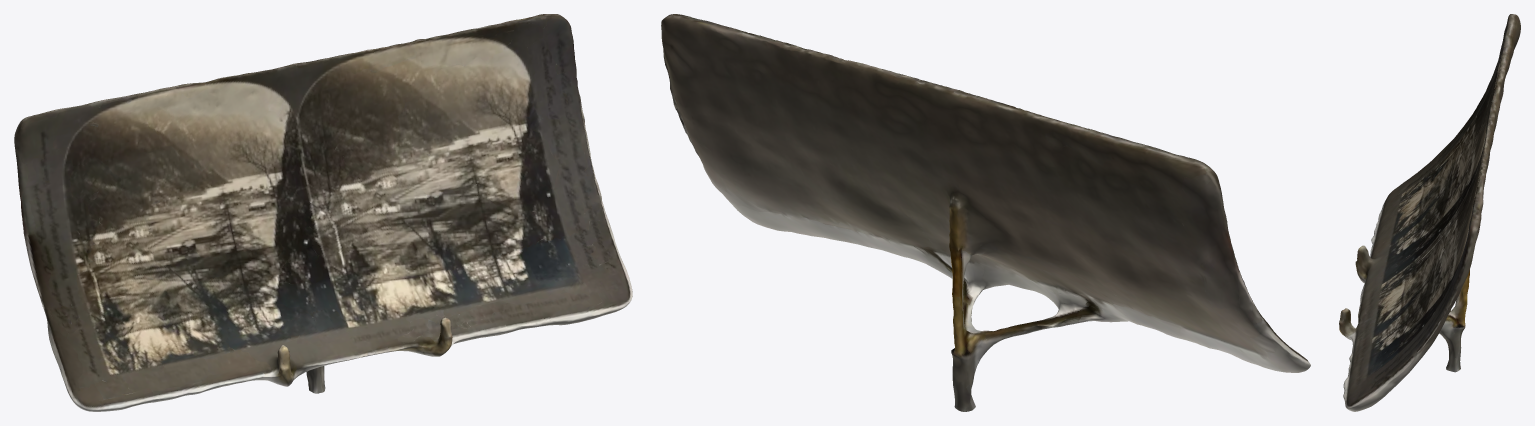
Rendered from stereoscope-card.glb.
The picture shows the model from 3 angles, left to right: view 1: azimuth 30°, elevation 25°; view 2: azimuth 150°, elevation 25°; view 3: azimuth 270°, elevation 25°; orthographic projection. The views are drawn at different scales.
Parts seen in each view (by area): view 1: 3DModel_Custom; view 2: 3DModel_Custom; view 3: 3DModel_Custom.
Part boxes in pixels (x1,y1,x2,y2): 3DModel_Custom: (14,14,632,411); 3DModel_Custom: (661,14,1310,411); 3DModel_Custom: (1339,14,1520,411).
Bounding box in the file's own units: 0.5689 × 0.3085 × 0.1997.
Materials: 1 (1 with a texture image).
